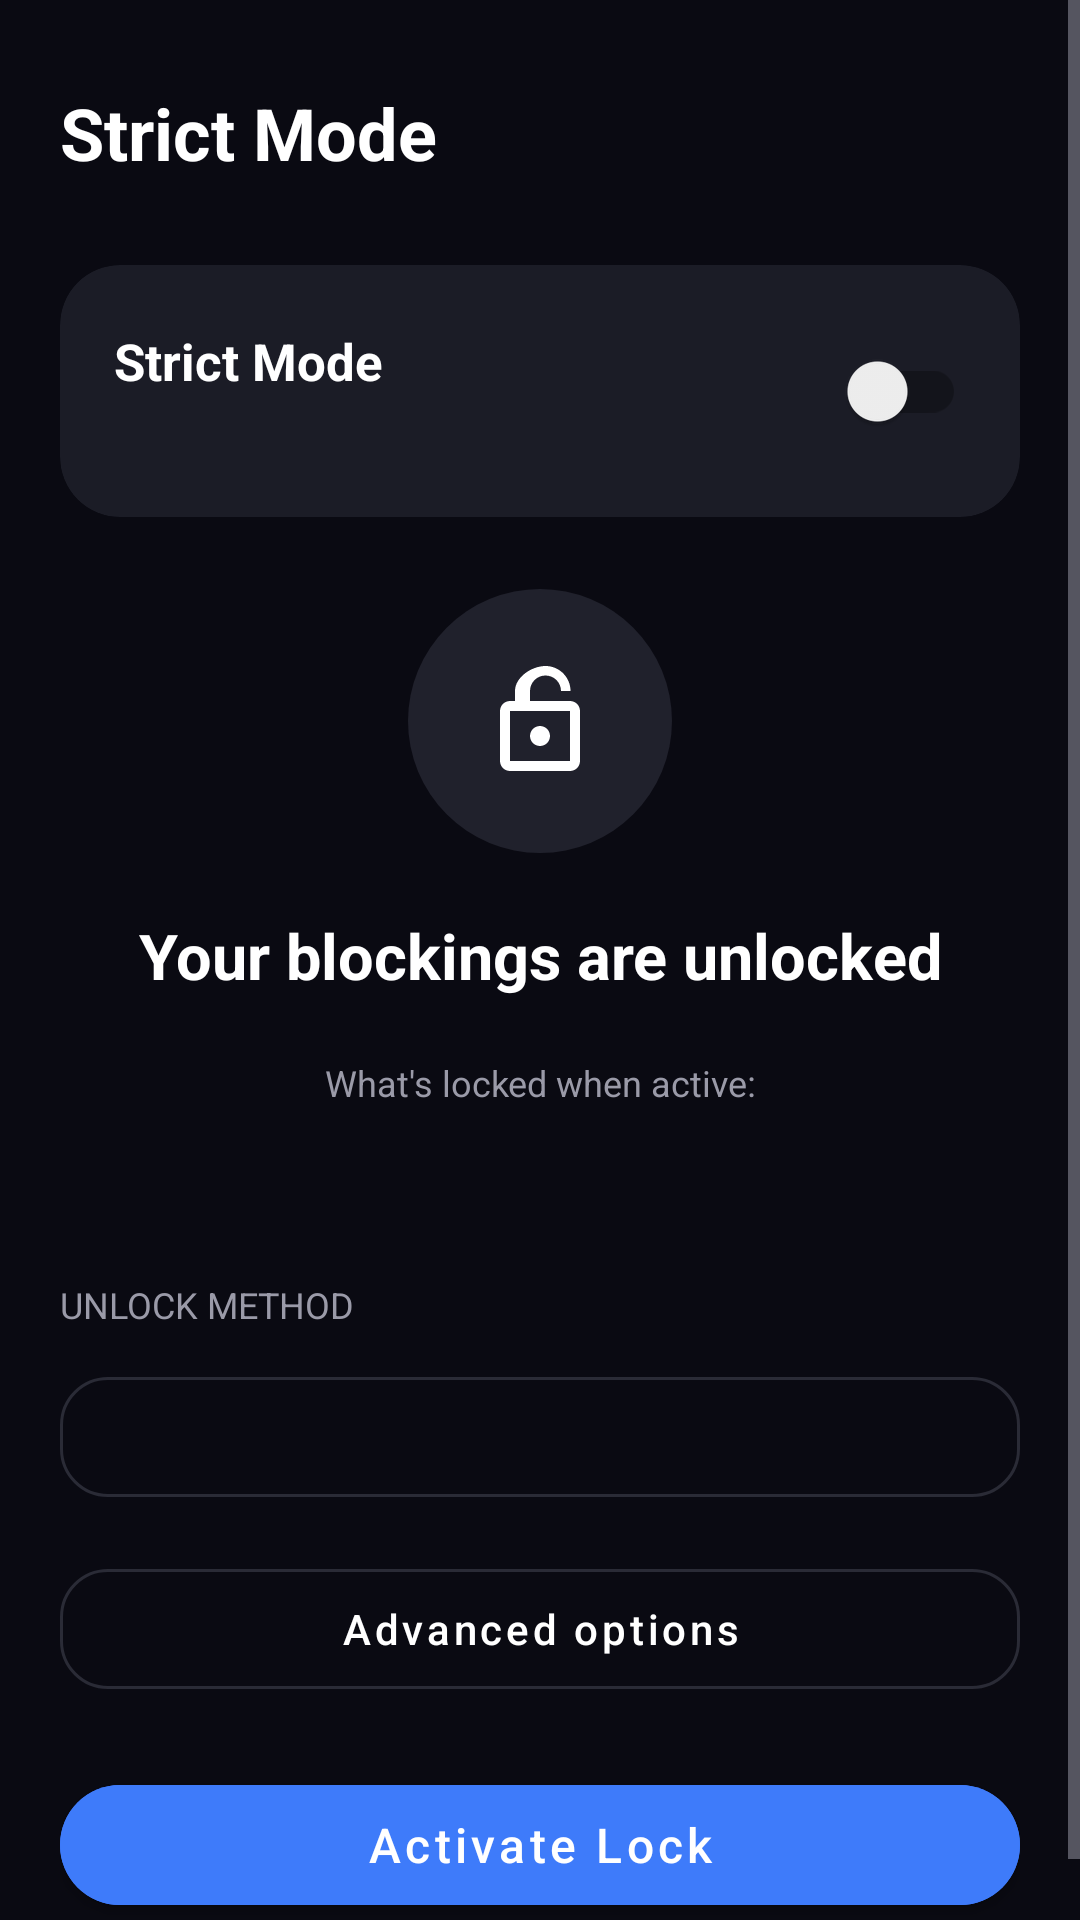

Screen size 1080*1920. Icon name, then its center in pixels as [x,y]:
lock open: [540,718]
